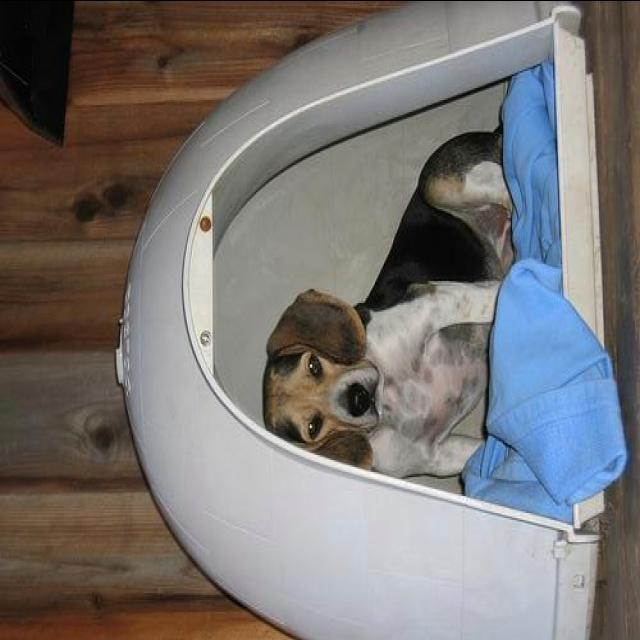beagle: (264, 106, 520, 490)
